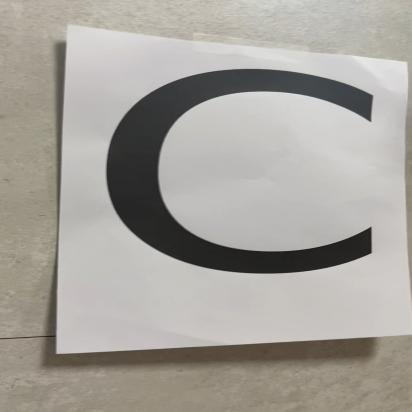seat: (55, 0, 412, 382)
